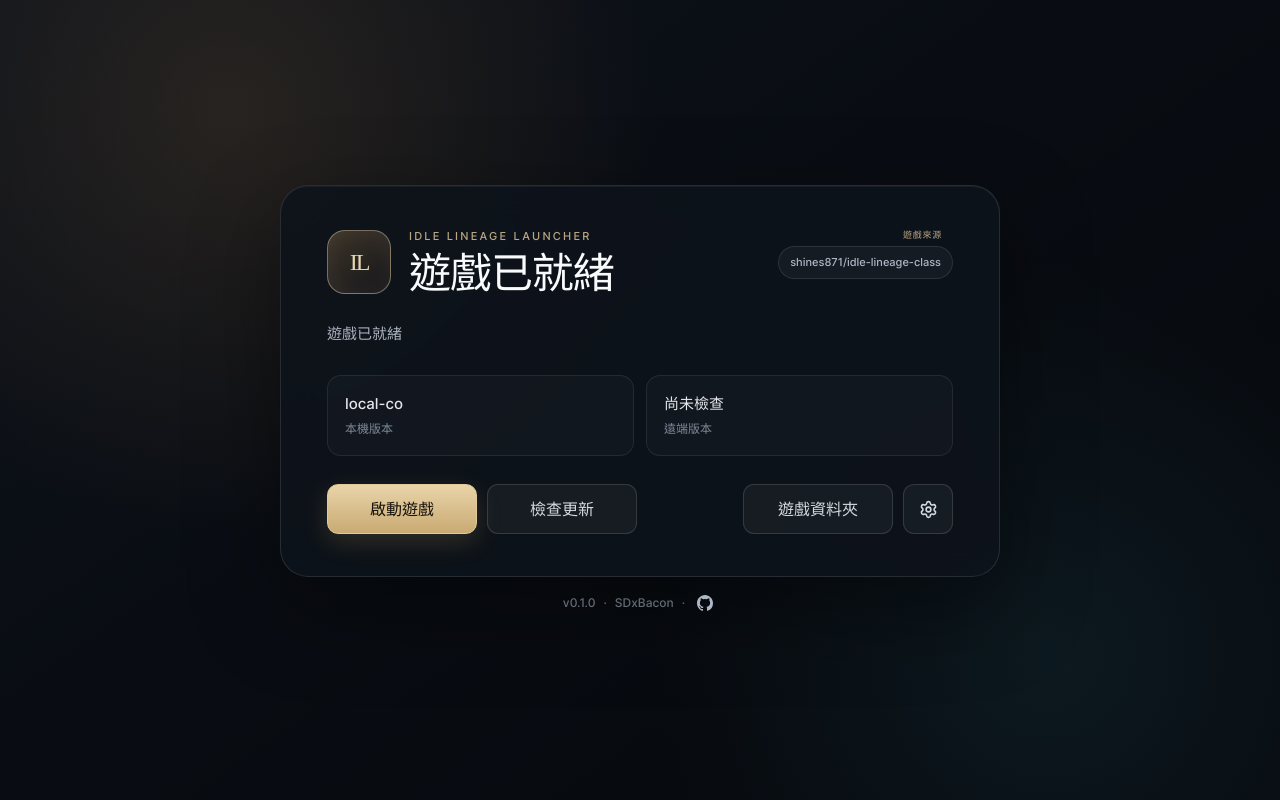
Test: App › does not auto-dismiss the fallback toast after the normal toast lifetime
The image size is (1280, 800).
Click the button named "開啟啟動器設置頁": click(928, 509) [903,484,953,534]
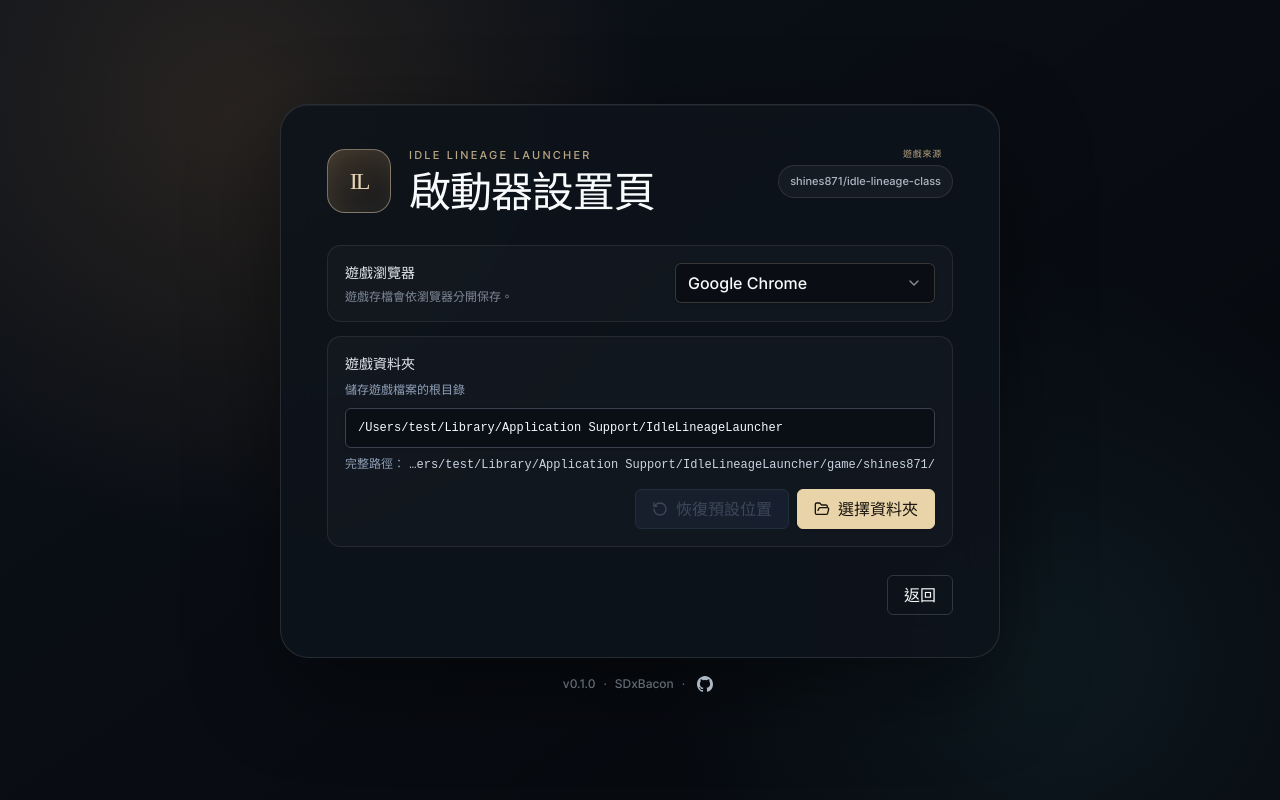
Now the dropdown named "遊戲瀏覽器" is shown, box [675,263,935,303]
Click the button "返回": click(920, 595) [887,575,953,615]
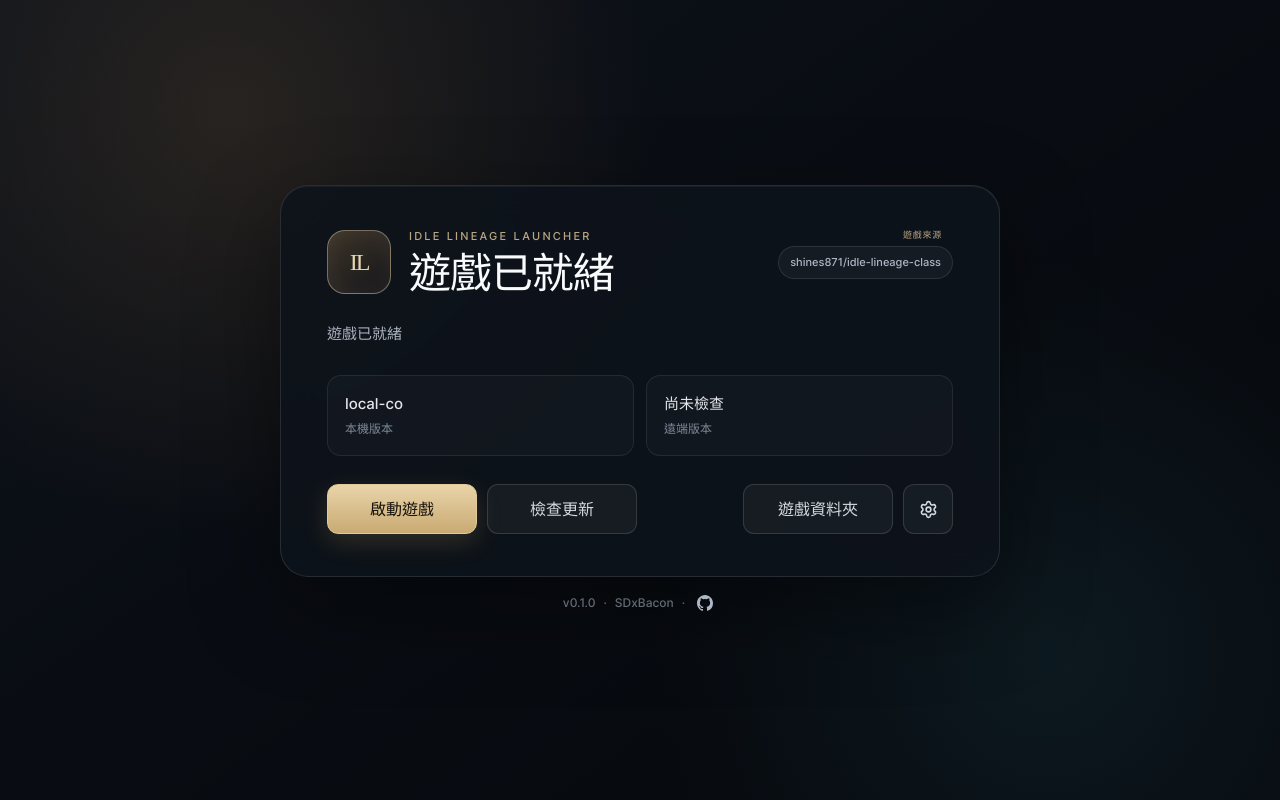
Click the button "啟動遊戲": click(402, 509) [327,484,477,534]
Wait 60000 ms
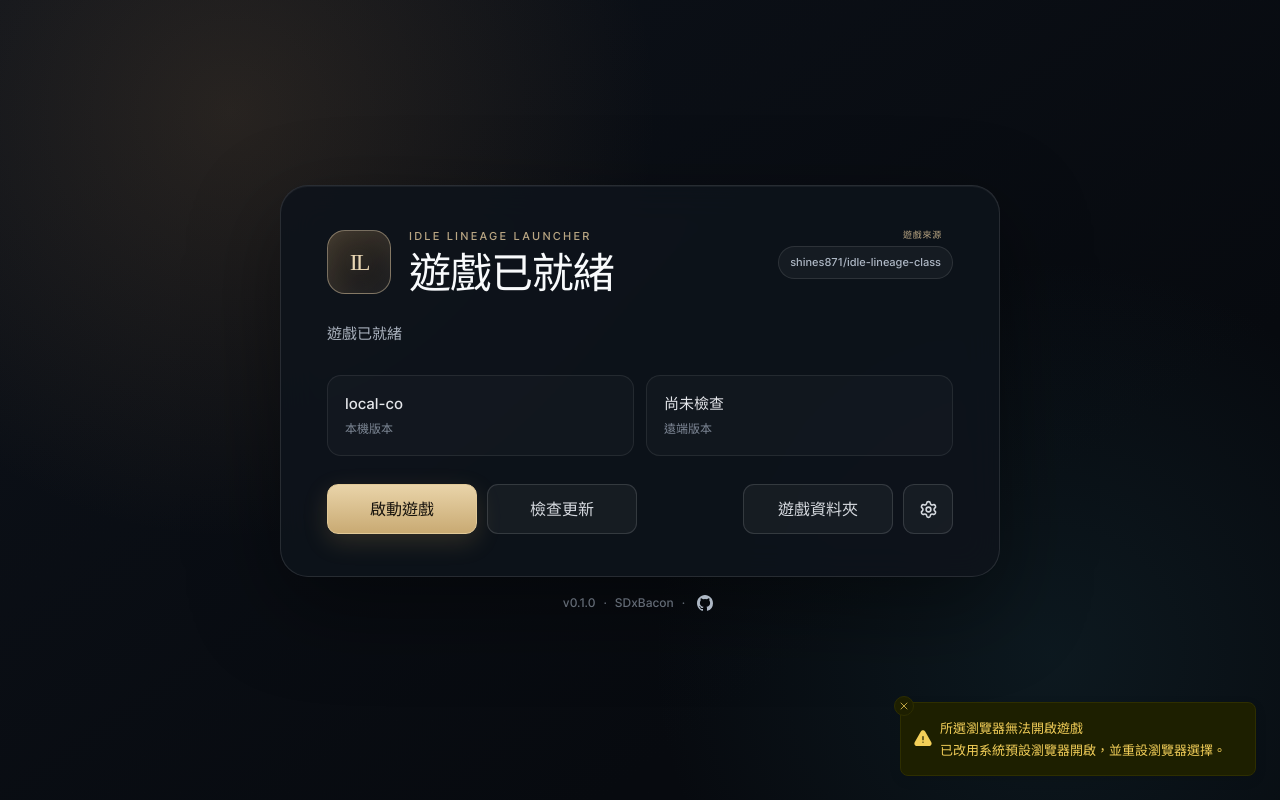
Now the text "所選瀏覽器無法開啟遊戲" is shown, box [940,719,1083,737]
